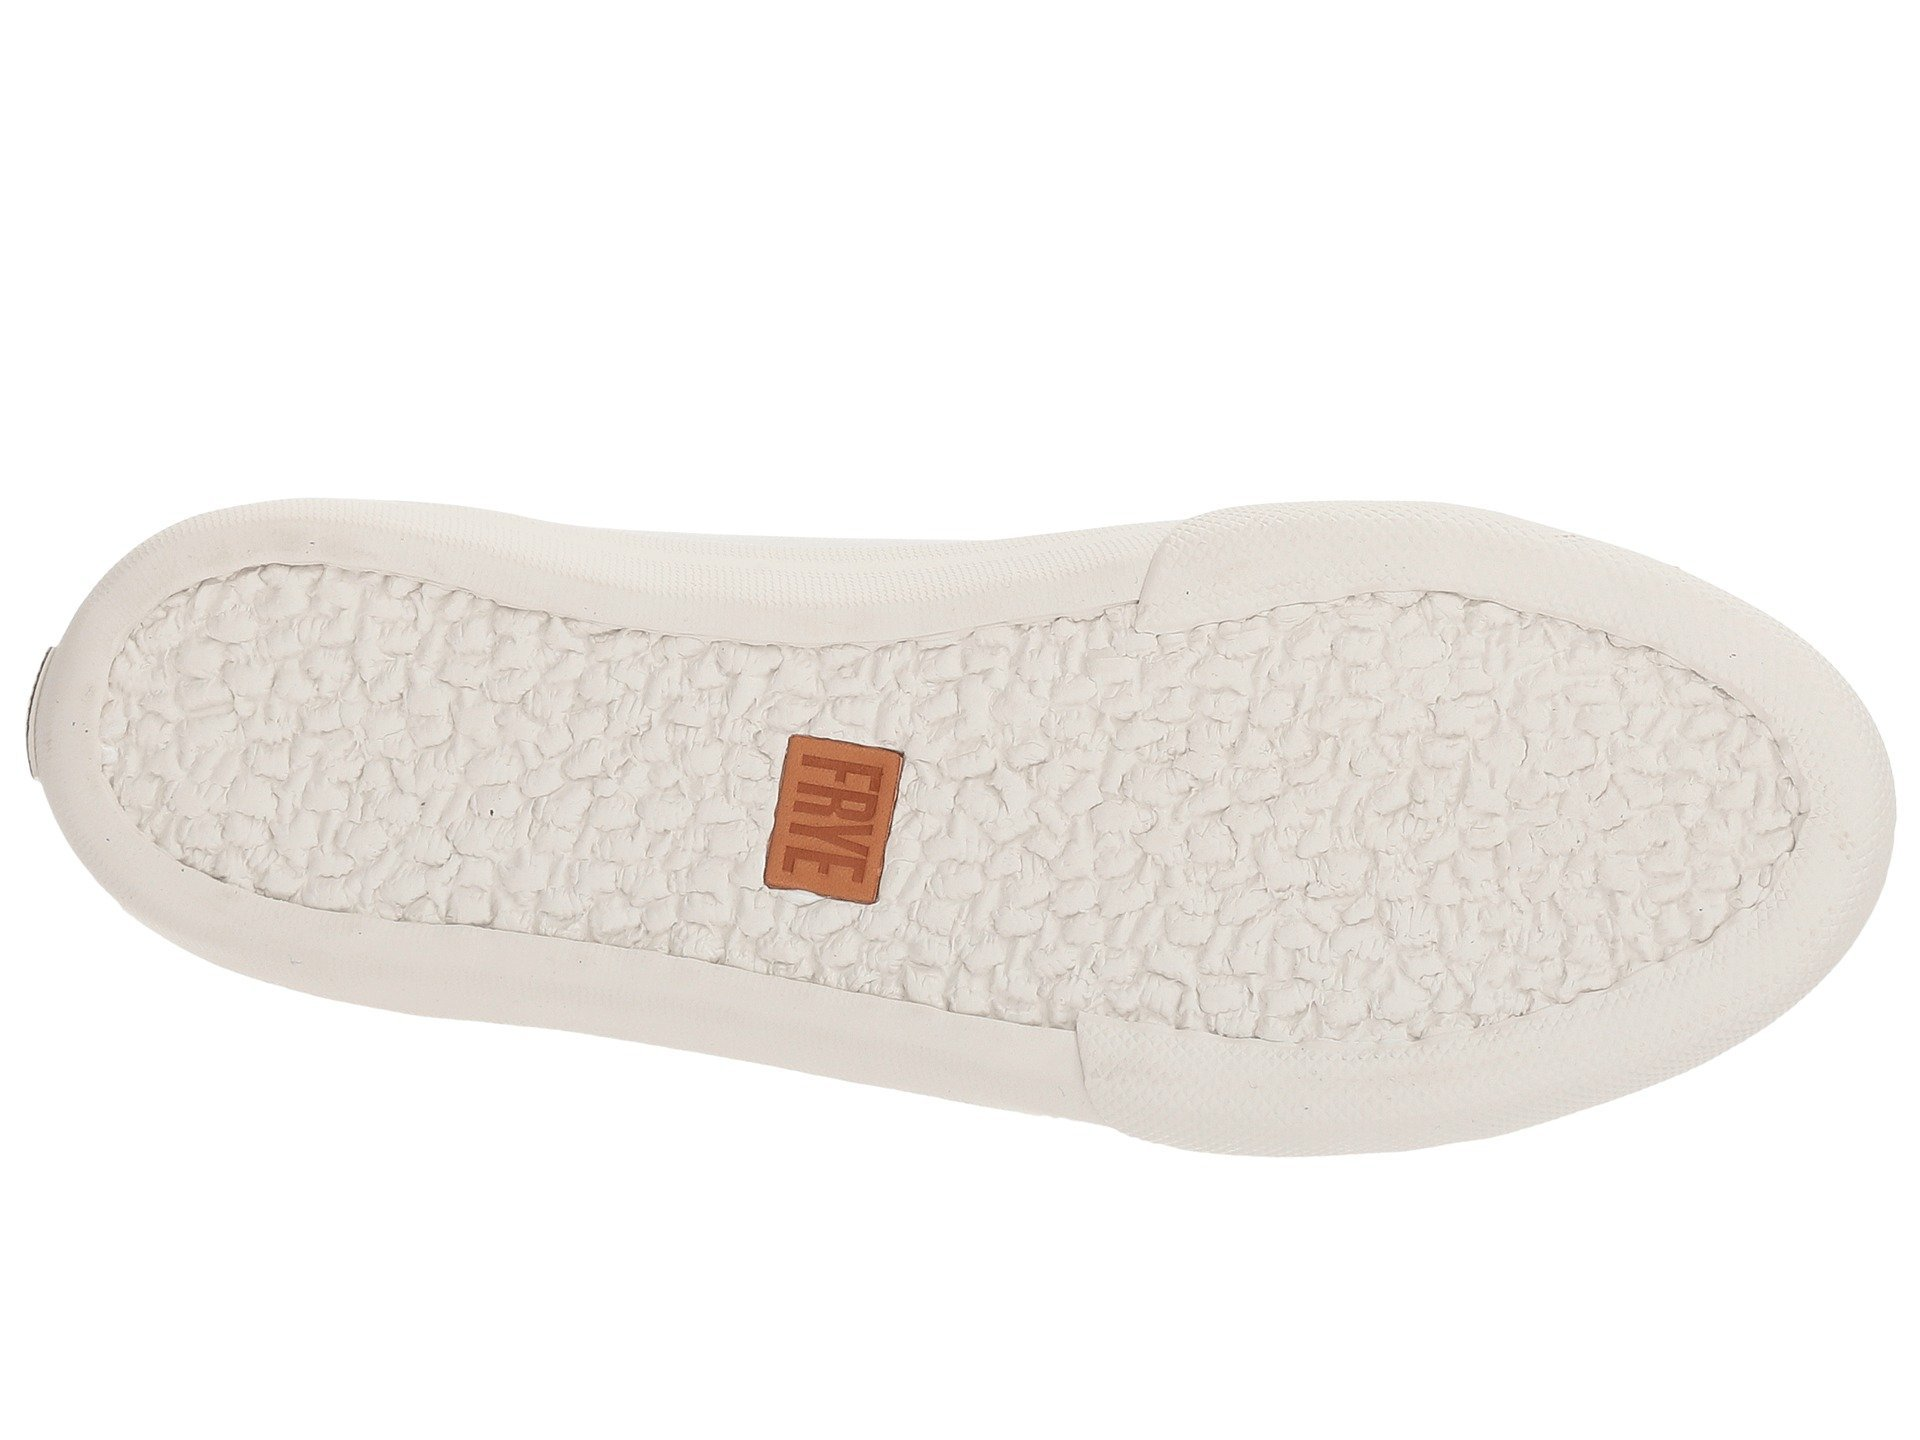line: (1104, 526, 1215, 625)
other: (1082, 653, 1663, 982), (1104, 526, 1215, 625)
quad: (1082, 653, 1663, 982), (766, 732, 906, 902)
text: (766, 732, 906, 902)
triangle: (1082, 653, 1663, 982)
